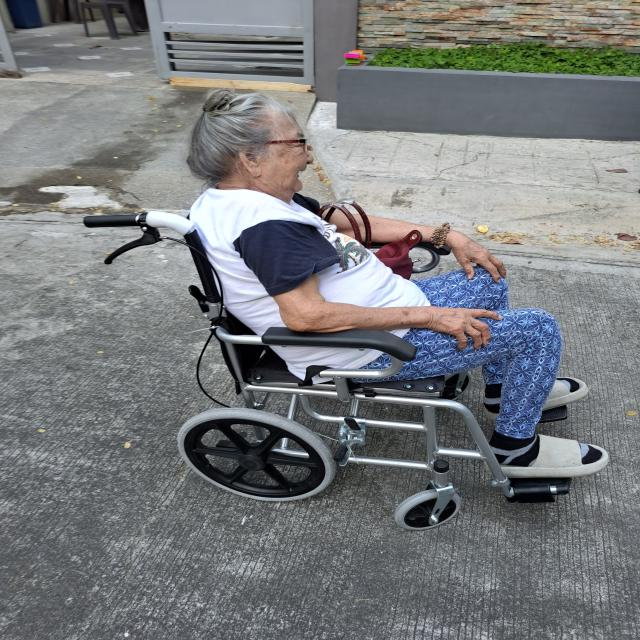wheelchairs: (83, 212, 574, 528)
